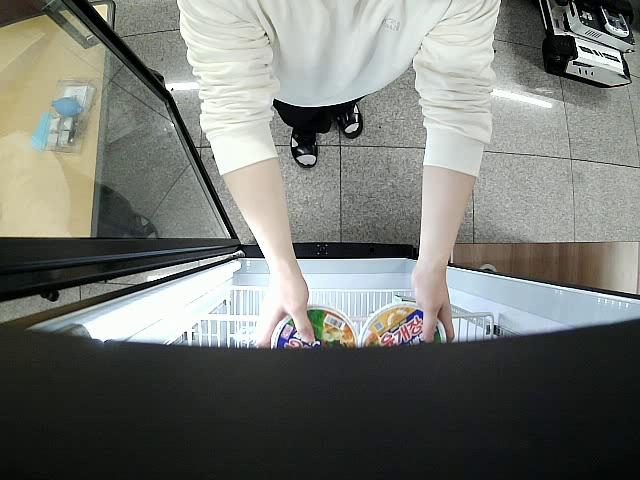00_hand: (255, 275, 315, 349), (409, 268, 455, 344)
09_yukGaeJang: (271, 304, 358, 351), (359, 303, 447, 348)
